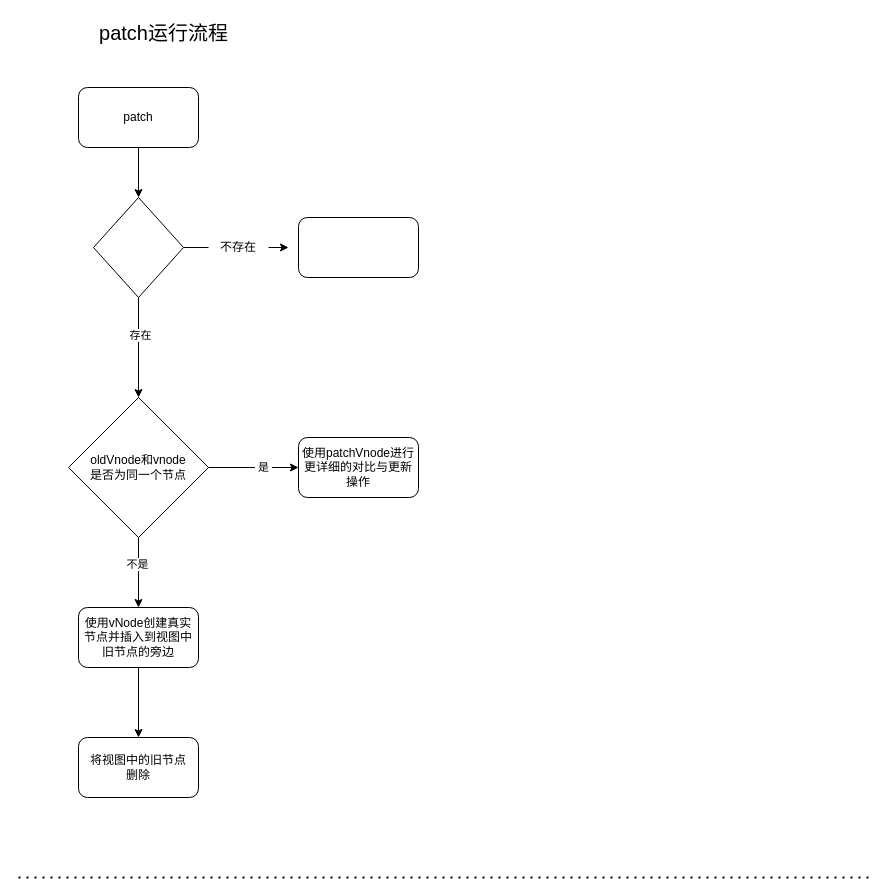
This 887x896 diagram has some shape labels left out. The box of each missing label's shape, as (x1, y1, x2, y2) in pixels:
oldVnode 是否存在: (92, 196, 184, 298)
使用vnode创建节点: (298, 216, 418, 278)
